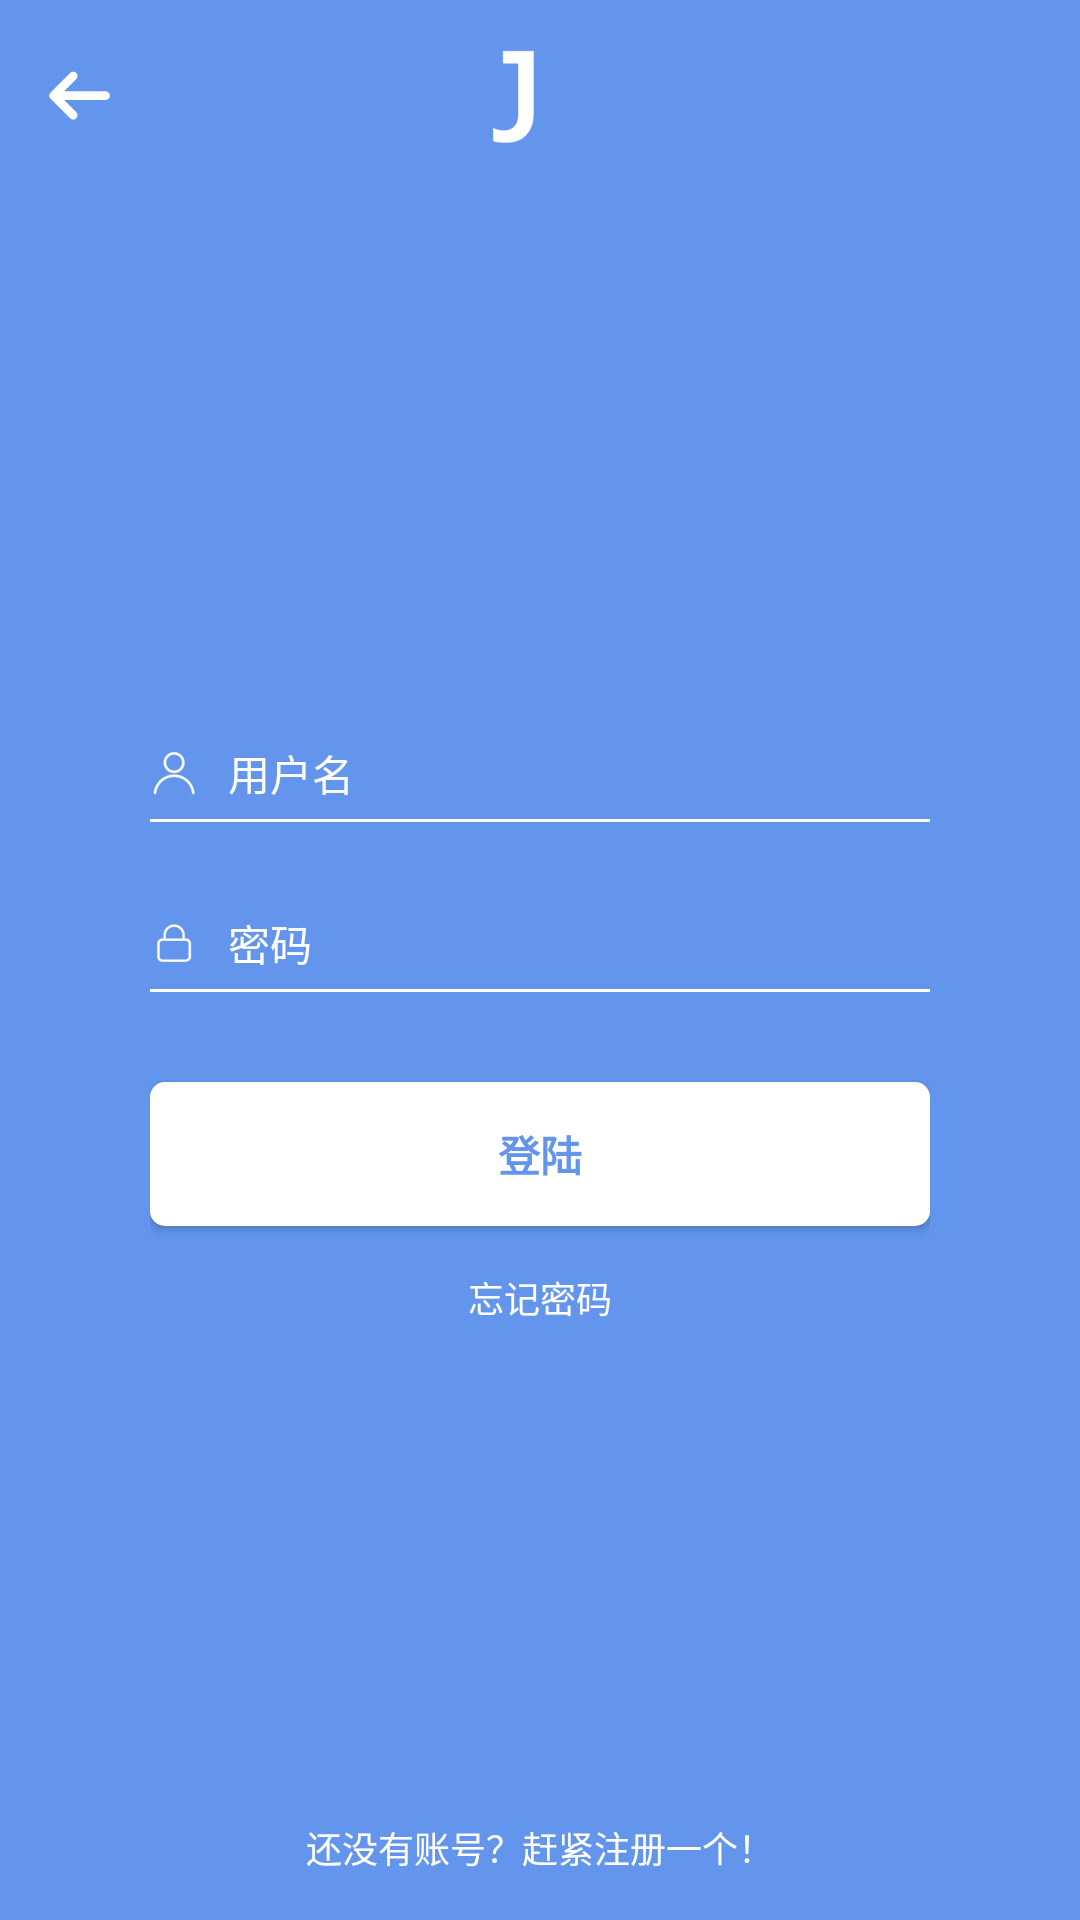

Where to tap for icons on this 1080 x 1920 app screen, as (x=x, y=y):
login password: (x=174, y=943)
login username: (x=174, y=773)
